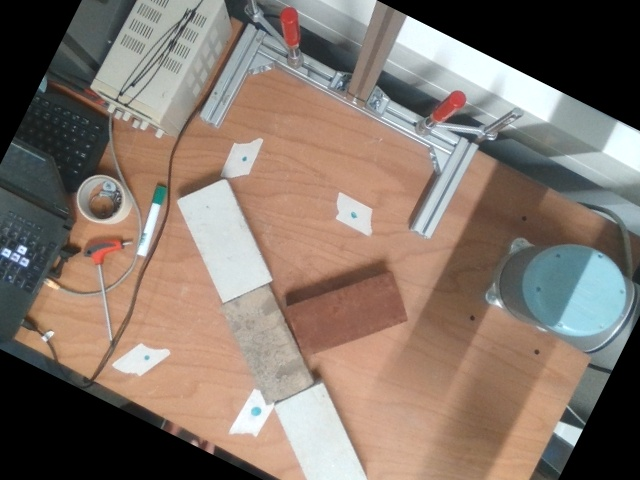brick: (222, 286, 312, 405), (179, 182, 267, 301), (287, 274, 406, 357), (274, 383, 370, 479)
